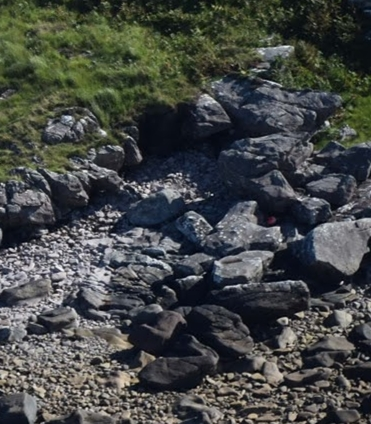white_in_green: (250, 196, 296, 239)
